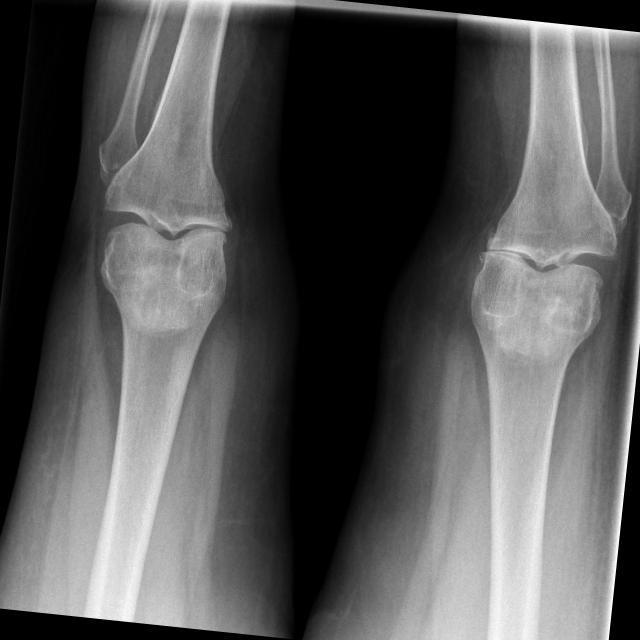Knee: (465, 188, 624, 360), (94, 157, 246, 313)
